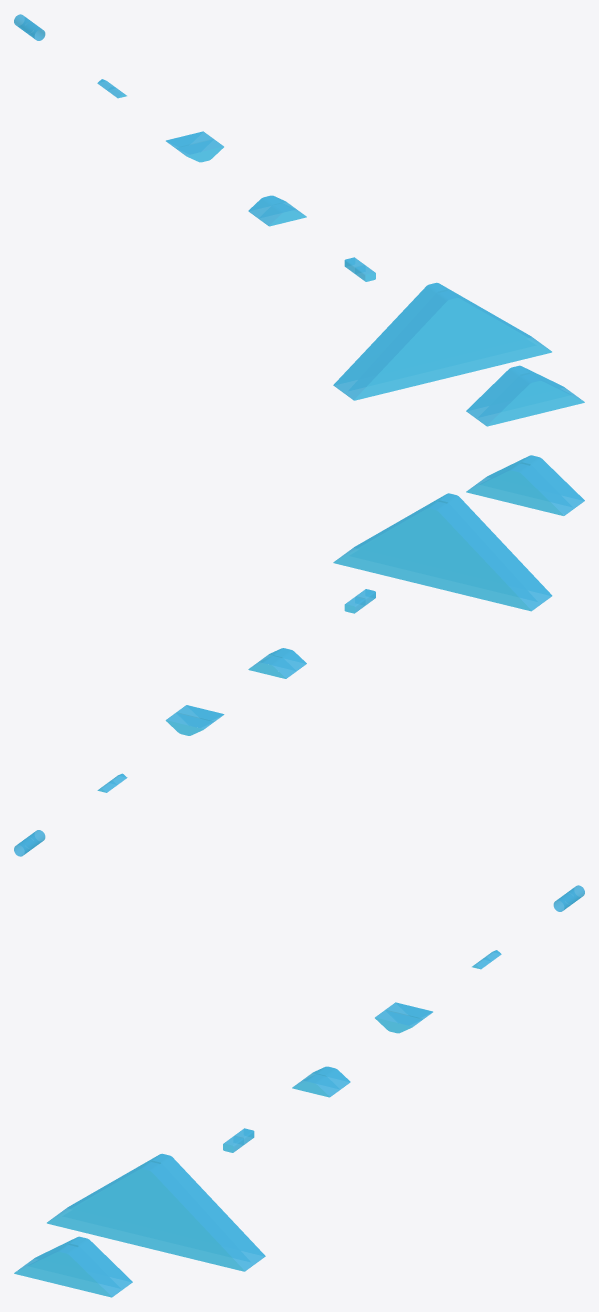
The model's file is precomputed_components_slice.glb.
3 views of the same model, one above another, from view 1: azimuth 30°, elevation 25°; view 2: azimuth 150°, elevation 25°; view 3: azimuth 330°, elevation 25° (orthographic).
Bounding box in the file's own units: 2774 × 1040 × 12500.
